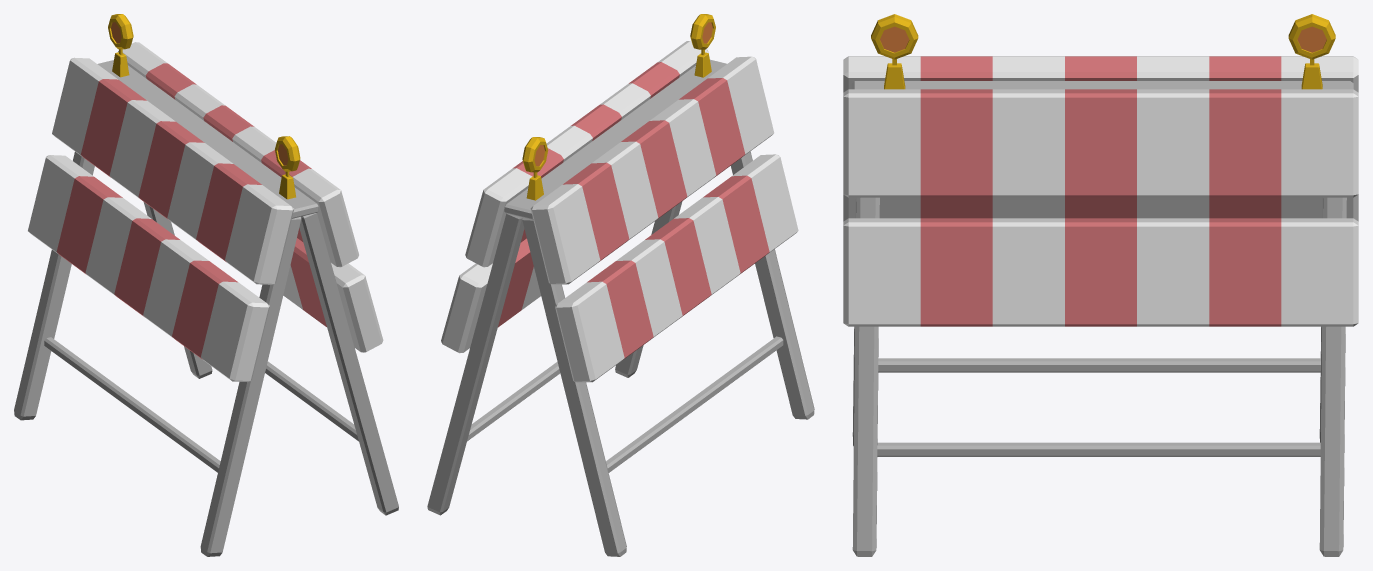
Rendered from Barrier C.fbx.
The picture shows the model from 3 angles, left to right: view 1: azimuth 30°, elevation 25°; view 2: azimuth 150°, elevation 25°; view 3: azimuth 270°, elevation 25°; orthographic projection. The views are drawn at different scales.
Visible parts, largest first — view 1: Barrier C; view 2: Barrier C; view 3: Barrier C.
Boxes of the visible parts, box(x1,y1,x2,y2) form: Barrier C: box(14, 14, 398, 556); Barrier C: box(427, 14, 814, 556); Barrier C: box(843, 14, 1358, 556).
Bounding box in the file's own units: 81.9 × 158 × 152.
